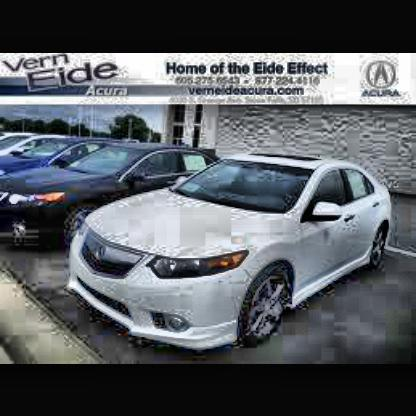Acura TSX Sedan 2012: (73, 153, 397, 358)
